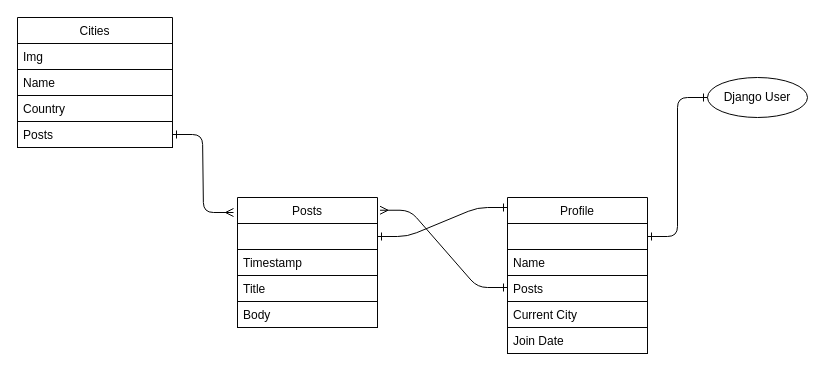
This 825x374 diagram has some shape labels left out. Here are the shapes that lost their labels. From the top down, the centre of each, then its label:
point 307,236: Author
point 577,236: User
